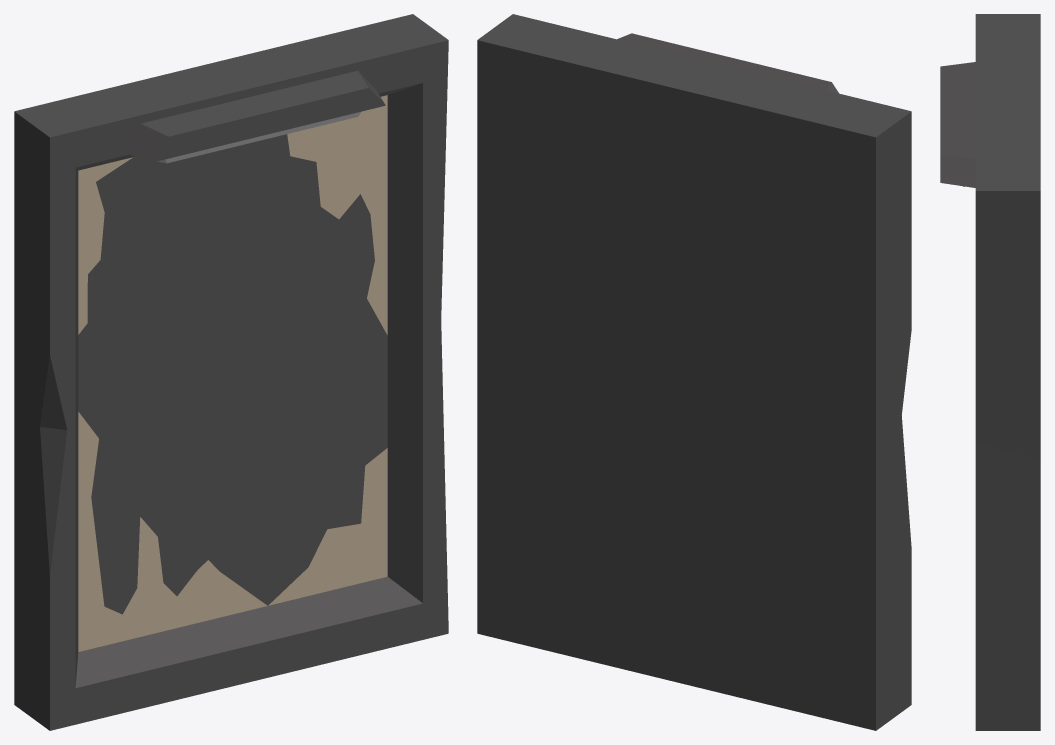
The model's file is SM_Prop_Poster_Frame_01.glb.
3 renders of one model, left to right at view 1: azimuth 30°, elevation 25°; view 2: azimuth 150°, elevation 25°; view 3: azimuth 270°, elevation 25°, orthographic. The views are drawn at different scales.
Visible parts, largest first — view 1: SM_Prop_Poster_Frame_01; view 2: SM_Prop_Poster_Frame_01; view 3: SM_Prop_Poster_Frame_01.
Boxes of the visible parts, <box> form: SM_Prop_Poster_Frame_01: <box>14,14,448,730</box>; SM_Prop_Poster_Frame_01: <box>477,14,911,730</box>; SM_Prop_Poster_Frame_01: <box>940,14,1040,730</box>.
Bounding box in the file's own units: 0.00837 × 0.0119 × 0.002.
Materials: 1 (1 with a texture image).
